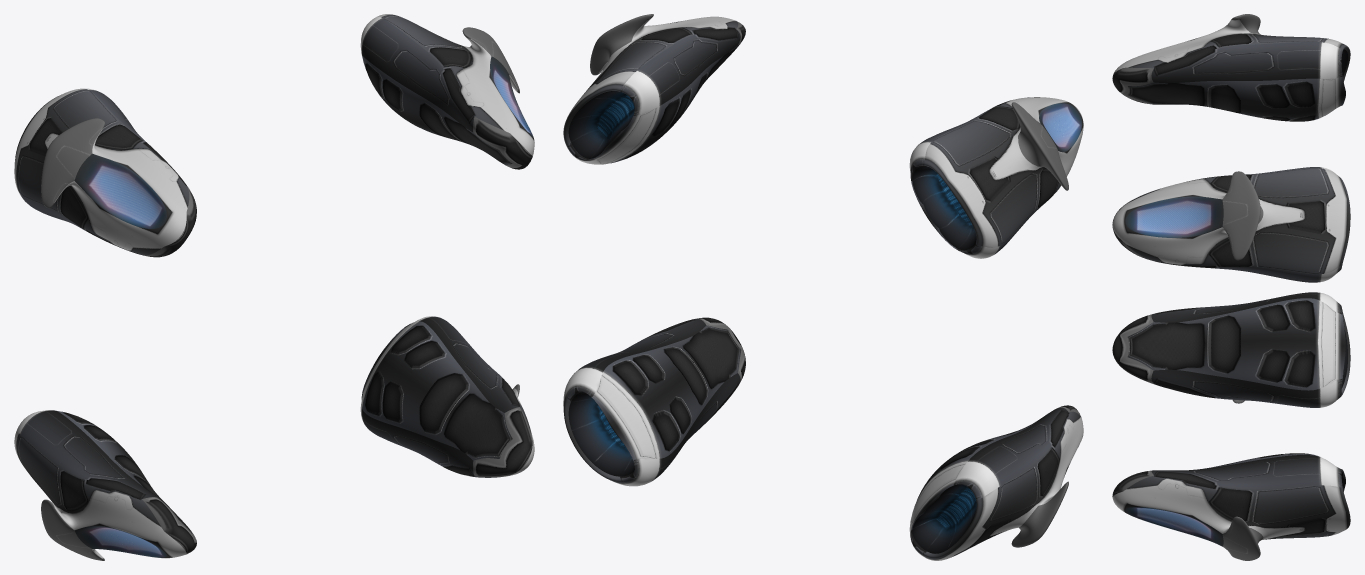
File: MotorT1.fbx
The picture shows the model from 3 angles, left to right: view 1: azimuth 30°, elevation 25°; view 2: azimuth 150°, elevation 25°; view 3: azimuth 270°, elevation 25°; orthographic projection. The views are drawn at different scales.
Visible parts, largest first — view 1: Motores_T1; view 2: Motores_T1; view 3: Motores_T1.
Part boxes in pixels (box(x1,y1,x2,y2)): Motores_T1: box(14, 14, 534, 560); Motores_T1: box(563, 14, 1083, 560); Motores_T1: box(1112, 14, 1350, 560).
Bounding box in the file's own units: 3.01 × 2.67 × 1.49.
Materials: 1 (1 with a texture image).
